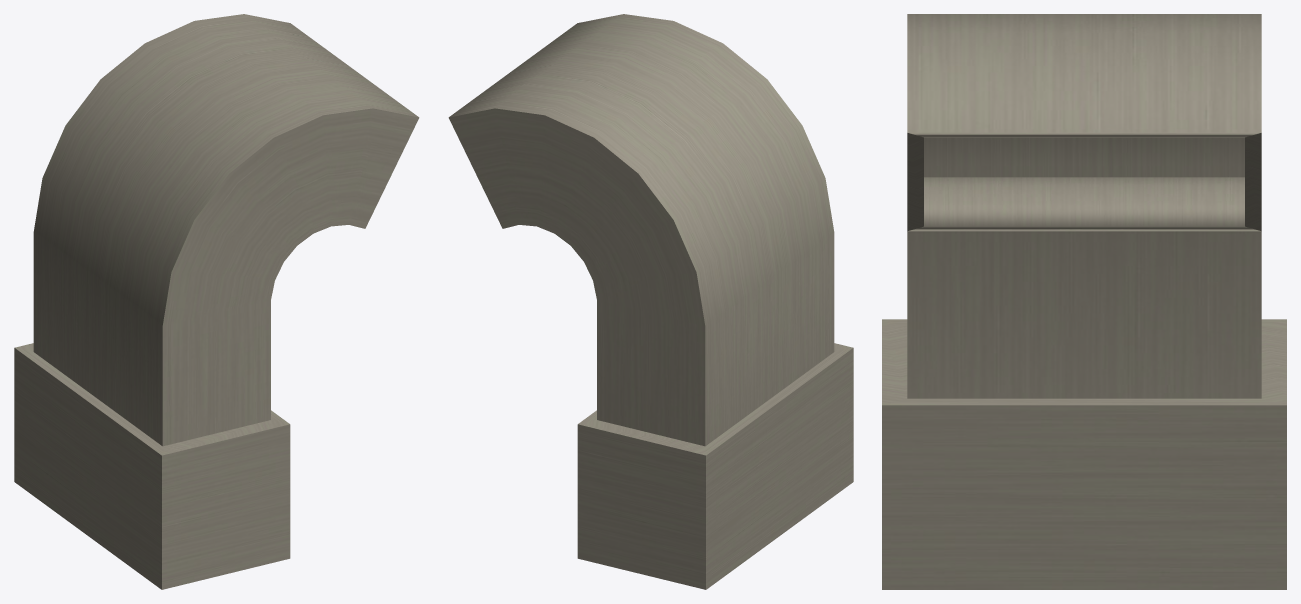
File: vent_2.fbx
3 views of the same model, side by side, from view 1: azimuth 30°, elevation 25°; view 2: azimuth 150°, elevation 25°; view 3: azimuth 270°, elevation 25° (orthographic). The views are drawn at different scales.
Visible parts, largest first — view 1: vent_2; view 2: vent_2; view 3: vent_2.
Part boxes in pixels (box(x1,y1,x2,y2)): vent_2: box(14, 14, 419, 589); vent_2: box(448, 14, 853, 589); vent_2: box(882, 14, 1286, 589).
Bounding box in the file's own units: 95.47 × 146 × 91.32.
